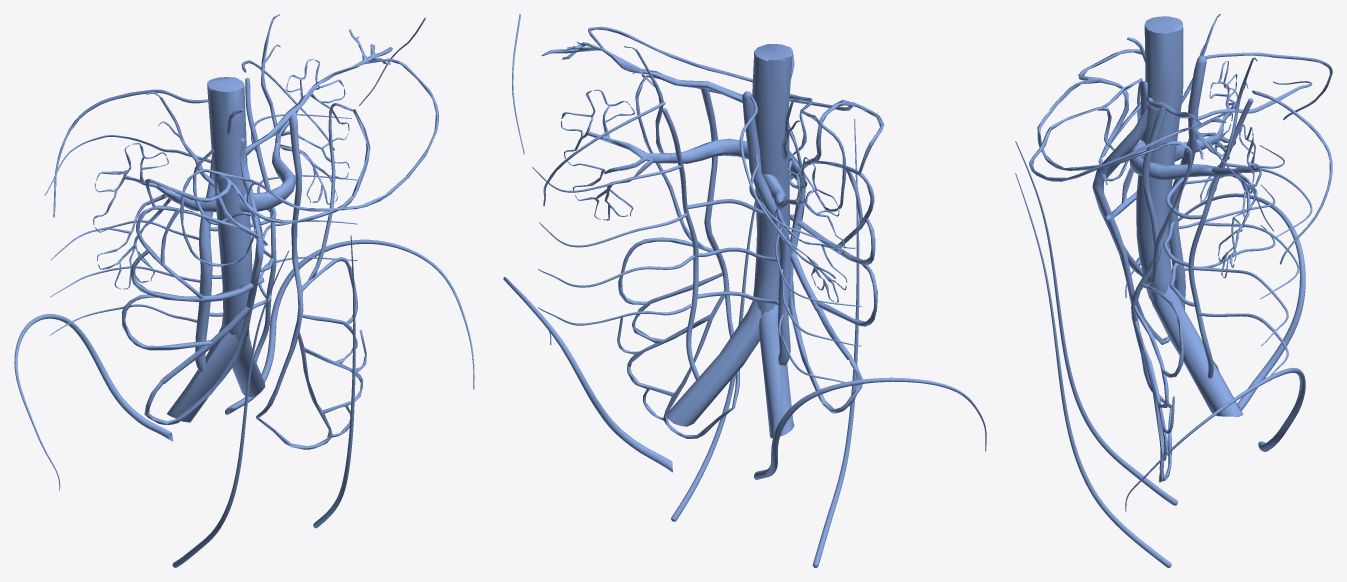
File: veines-abdomen.lo.glb
The picture shows the model from 3 angles, left to right: view 1: azimuth 30°, elevation 25°; view 2: azimuth 150°, elevation 25°; view 3: azimuth 270°, elevation 25°; orthographic projection. The views are drawn at different scales.
Visible parts, largest first — view 1: FJ3659, FJ3647, FJ3591, FJ3566, FJ3510, FJ3578, FJ3543, FJ3443, FJ3639, FJ3603, FJ3493, FJ3635 (+14 smaller); view 2: FJ3659, FJ3465, FJ3493, FJ3566, FJ3639, FJ3478, FJ3631, FJ3647, FJ3510, FJ3605, FJ3603, FJ3443 (+13 smaller); view 3: FJ3659, FJ3465, FJ3647, FJ3493, FJ3639, FJ3603, FJ3512, FJ3605, FJ3543, FJ3631, FJ3443, FJ3478 (+16 smaller).
Part boxes in pixels (left/top/right/bottom): FJ3659: left=207, top=77, right=252, bottom=339; FJ3647: left=144, top=138, right=263, bottom=424; FJ3591: left=130, top=205, right=264, bottom=302; FJ3566: left=167, top=324, right=239, bottom=422; FJ3510: left=225, top=239, right=474, bottom=414; FJ3578: left=93, top=143, right=181, bottom=289; FJ3543: left=145, top=109, right=370, bottom=246; FJ3443: left=256, top=112, right=303, bottom=418; FJ3639: left=256, top=314, right=366, bottom=449; FJ3603: left=14, top=314, right=173, bottom=490; FJ3493: left=195, top=156, right=214, bottom=372; FJ3635: left=44, top=135, right=211, bottom=335; FJ3659: left=752, top=44, right=792, bottom=314; FJ3465: left=667, top=300, right=761, bottom=426; FJ3493: left=742, top=91, right=790, bottom=365; FJ3566: left=759, top=304, right=794, bottom=438; FJ3639: left=617, top=272, right=734, bottom=438; FJ3478: left=560, top=89, right=677, bottom=220; FJ3631: left=532, top=165, right=695, bottom=325; FJ3647: left=789, top=150, right=862, bottom=413; FJ3510: left=503, top=277, right=672, bottom=472; FJ3605: left=812, top=119, right=859, bottom=567; FJ3603: left=754, top=377, right=986, bottom=479; FJ3443: left=700, top=81, right=739, bottom=407; FJ3659: left=1136, top=16, right=1183, bottom=301; FJ3465: left=1150, top=284, right=1243, bottom=416; FJ3647: left=1092, top=81, right=1170, bottom=344; FJ3493: left=1169, top=55, right=1206, bottom=309; FJ3639: left=1134, top=305, right=1174, bottom=482; FJ3603: left=1125, top=193, right=1305, bottom=410; FJ3512: left=1015, top=173, right=1171, bottom=567; FJ3605: left=1015, top=141, right=1177, bottom=505; FJ3543: left=1037, top=49, right=1160, bottom=184; FJ3631: left=1192, top=163, right=1312, bottom=375; FJ3443: left=1131, top=106, right=1171, bottom=407; FJ3478: left=1209, top=124, right=1261, bottom=278.
Size of the model in its own units: 0.2558 by 0.276 by 0.1531.
